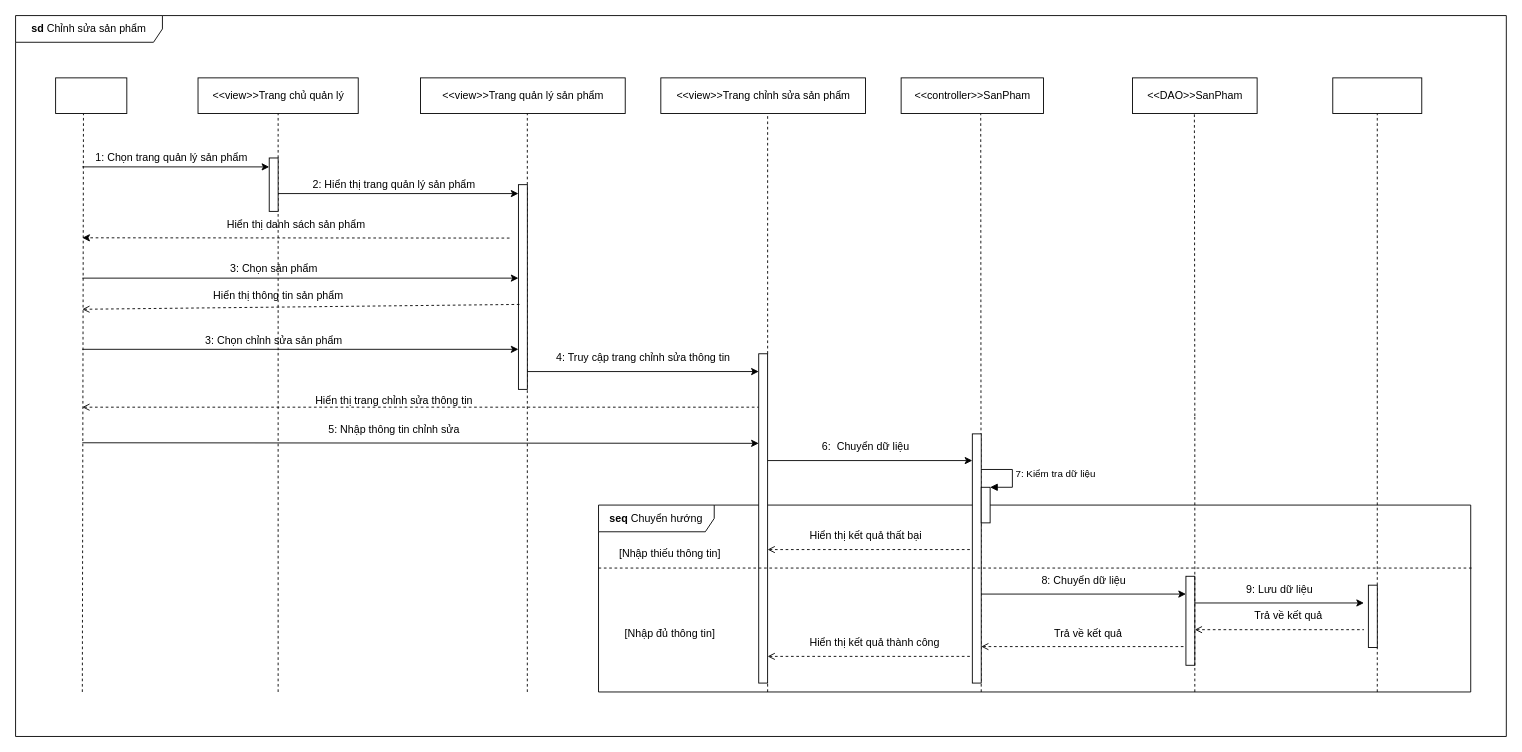
The diagram is 1522 pixels wide and 752 high, and some of its shapes have lost their labels. The shapes that lost their labels are listed below. From the top down, each one's centre as x and y in pixels, then its label:
At (x=91, y=95): "QuanLy".
At (x=1377, y=95): "Database".
